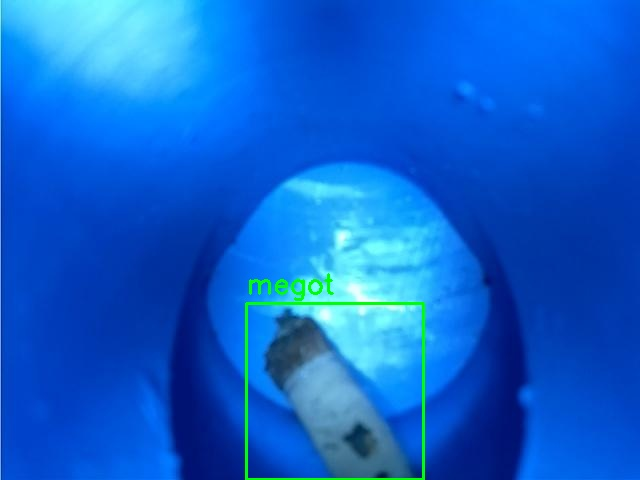megot: (246, 303, 423, 479)
